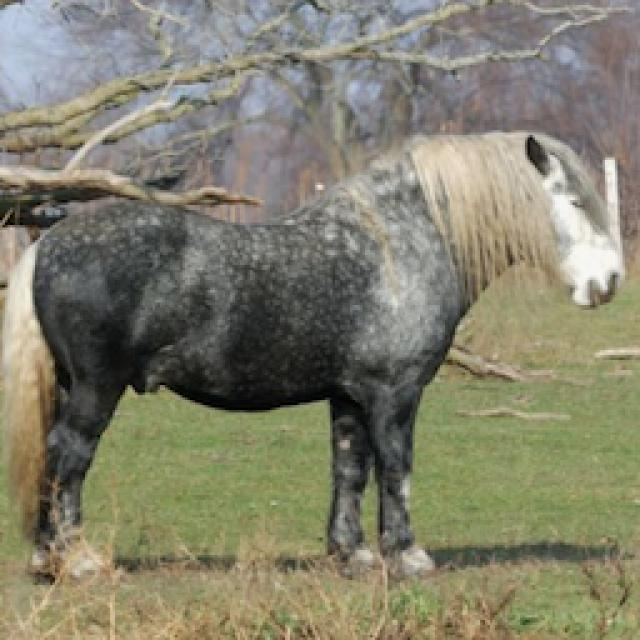Horse: (0, 120, 632, 590)
